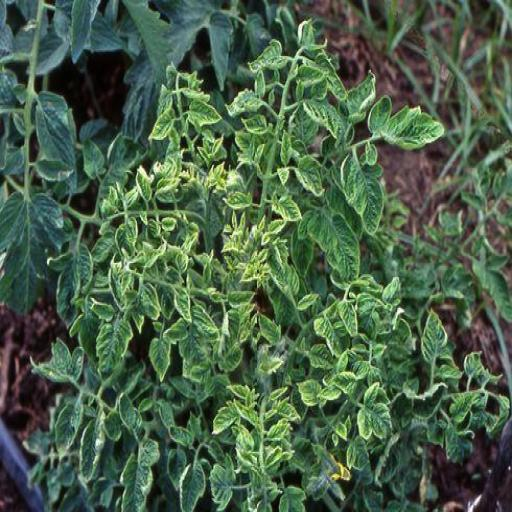disease_tomato: (364, 90, 454, 152), (308, 204, 366, 282), (110, 435, 164, 512), (340, 158, 388, 244), (28, 330, 88, 388), (174, 301, 218, 373), (44, 390, 87, 462), (78, 393, 110, 483), (94, 316, 134, 382), (356, 383, 399, 441), (342, 64, 382, 126), (302, 100, 348, 148), (222, 70, 268, 116), (218, 307, 248, 371), (417, 302, 449, 361), (143, 330, 177, 384), (177, 453, 208, 512), (209, 450, 237, 512), (295, 151, 327, 200), (246, 37, 288, 74), (234, 129, 266, 171), (270, 255, 300, 299), (136, 280, 165, 322), (212, 400, 246, 435), (271, 192, 305, 226), (224, 378, 260, 409), (186, 98, 222, 128), (114, 214, 138, 258), (346, 434, 372, 474), (254, 313, 284, 347), (145, 106, 175, 140), (338, 296, 360, 340), (292, 375, 322, 406), (274, 394, 304, 424), (450, 390, 476, 424), (171, 286, 194, 322), (292, 64, 328, 86), (310, 342, 338, 370), (240, 112, 272, 136), (134, 168, 154, 206), (168, 422, 196, 448), (331, 370, 357, 396), (266, 416, 292, 442), (222, 190, 254, 210), (278, 126, 292, 167)
